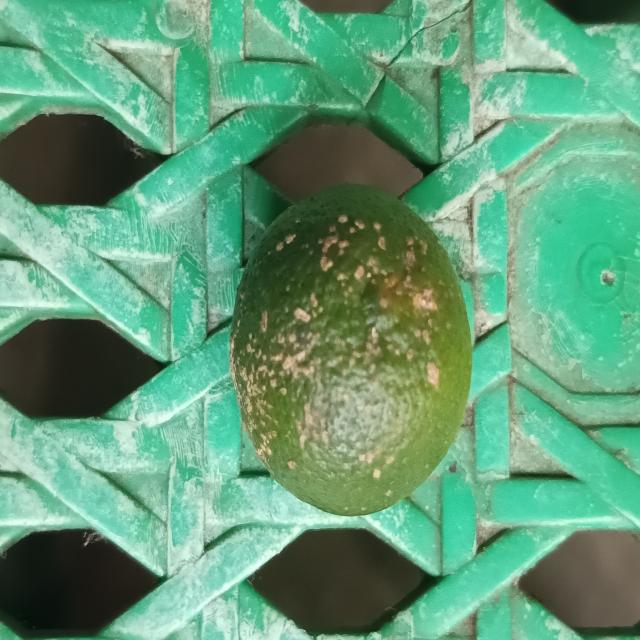scab: (232, 182, 481, 526)
